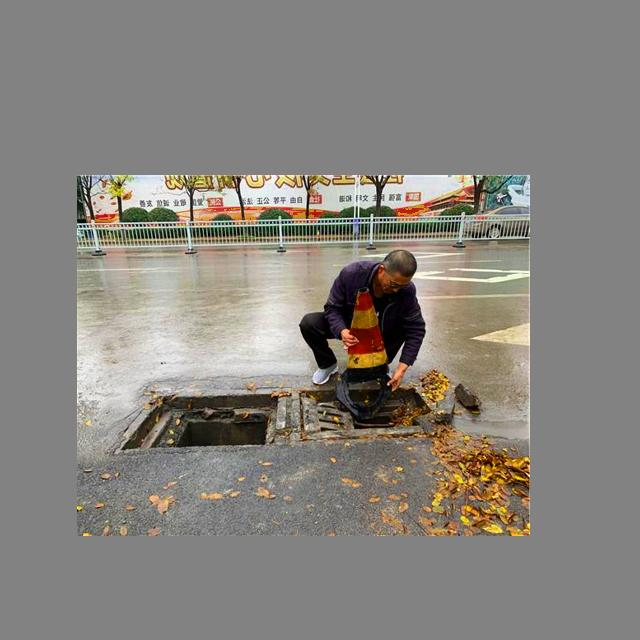lose: (109, 366, 460, 462)
